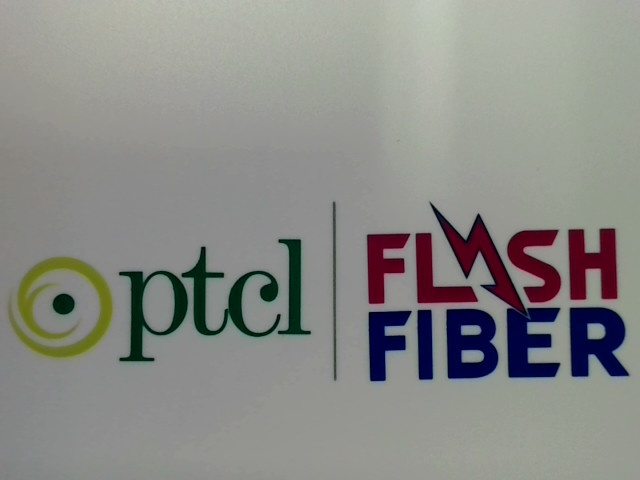BF_PTCL: (4, 227, 320, 368)
